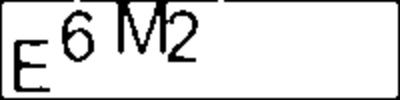2: (164, 9, 204, 66)
6: (59, 5, 97, 63)
E: (7, 36, 53, 99)
M: (111, 1, 171, 61)
